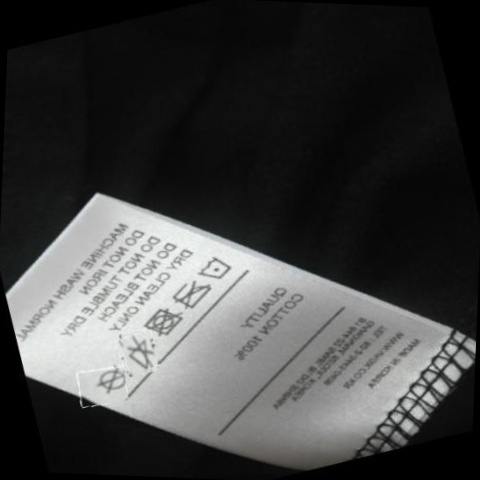30C: (199, 254, 229, 281)
DN_bleach: (120, 337, 154, 371)
DN_dry_clean: (96, 367, 128, 396)
DN_iron: (170, 280, 207, 311)
DN_tumble_dry: (142, 305, 181, 337)
